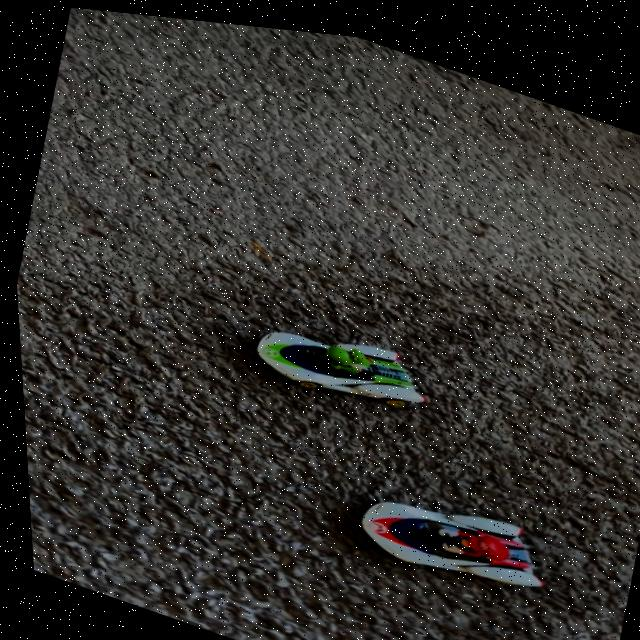mario: (331, 453, 568, 615)
yoshi: (227, 281, 452, 436)
